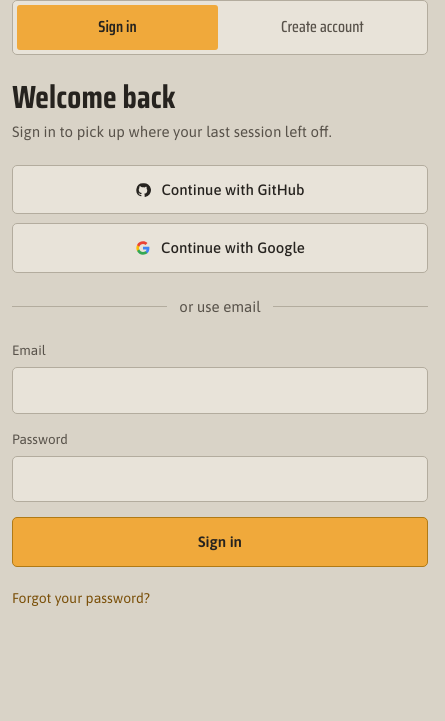
Test: sign in / sign up switch › switches to create account
What coordinates should you click on to do the following:
click the tab "Create account"
I would click on:
 (322, 27)
Its box is 222,5 -> 423,50.
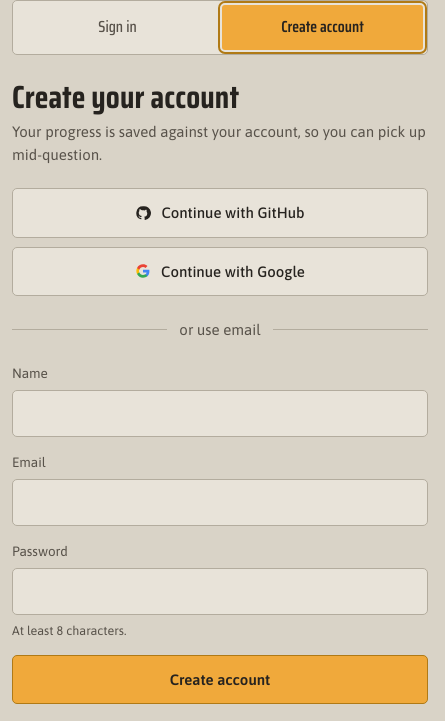
Result: the heading "Create your account" is shown at 12,72 -> 239,122
